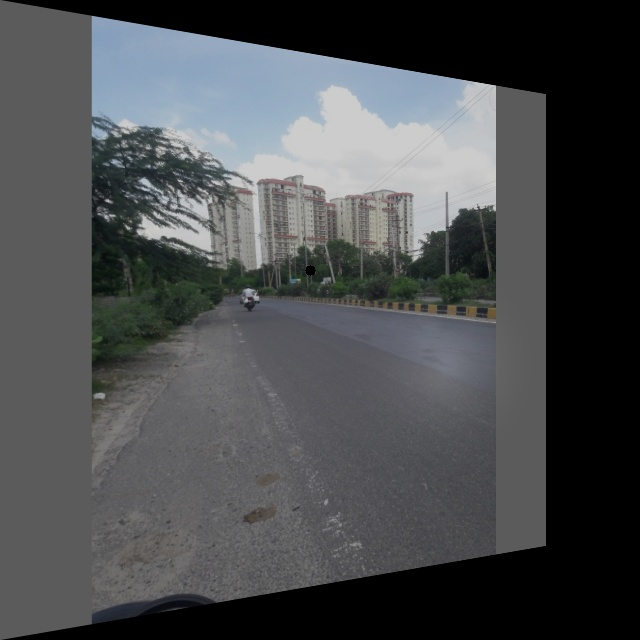Gap_in_Median: (304, 263, 316, 275)
